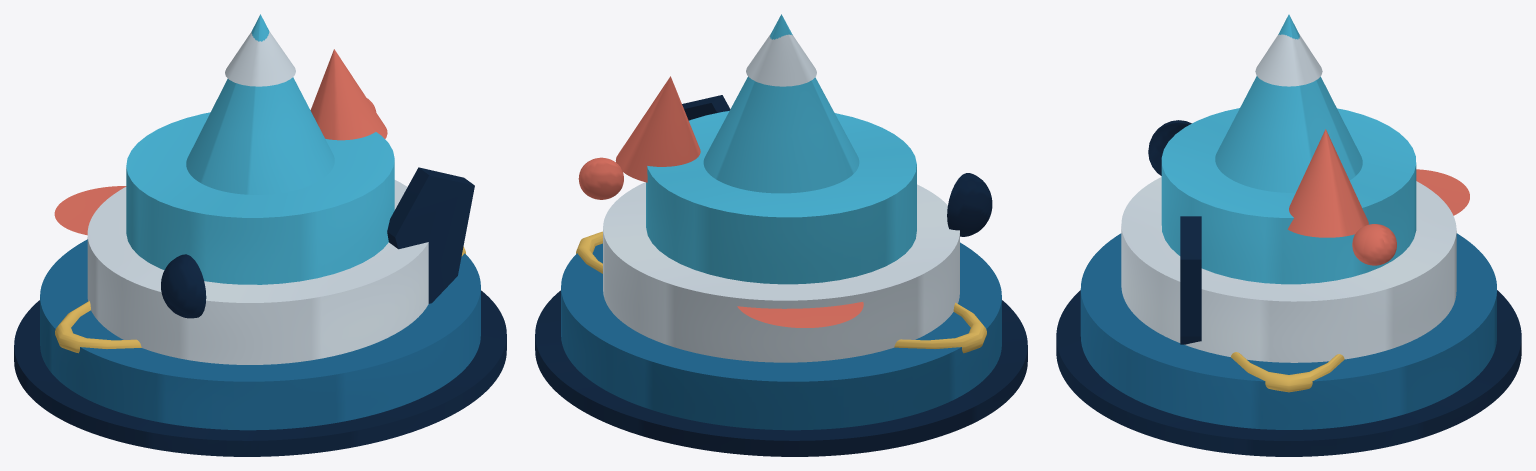
Rendered from 0722_钱币图鉴_海贝.glb.
3 renders of one model, left to right at view 1: azimuth 30°, elevation 25°; view 2: azimuth 150°, elevation 25°; view 3: azimuth 270°, elevation 25°, orthographic.
Visible parts, largest first — view 1: card_0722; view 2: card_0722; view 3: card_0722.
Part boxes in pixels (x1,y1,x2,y2): card_0722: [14, 14, 506, 456]; card_0722: [535, 14, 1027, 456]; card_0722: [1056, 14, 1521, 456].
Size of the model in its own units: 1.32 by 1 by 1.25.
